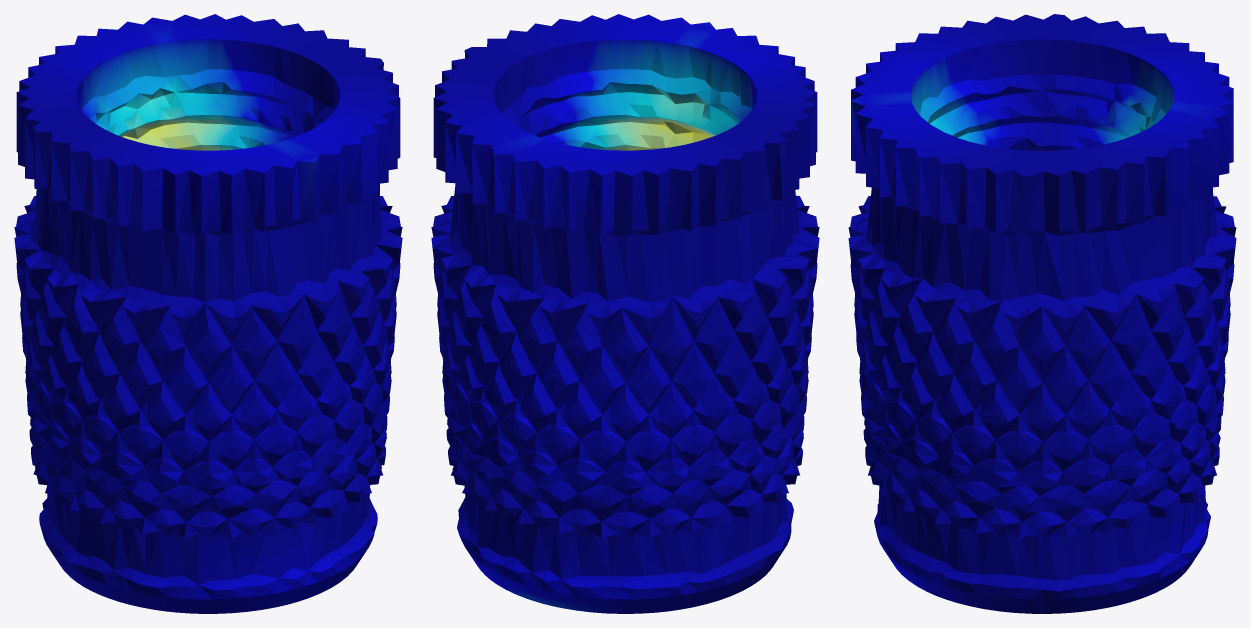
The model's file is fastener_error_poisson.glb.
The picture shows the model from 3 angles, left to right: view 1: azimuth 30°, elevation 25°; view 2: azimuth 150°, elevation 25°; view 3: azimuth 270°, elevation 25°; orthographic projection.
Visible parts, largest first — view 1: genus_1.obj; view 2: genus_1.obj; view 3: genus_1.obj.
Boxes of the visible parts, x1=… form: genus_1.obj: x1=14, y1=14, x2=402, y2=613; genus_1.obj: x1=431, y1=14, x2=819, y2=613; genus_1.obj: x1=848, y1=14, x2=1236, y2=613.
Size of the model in its own units: 1.19 by 1.54 by 1.19.
